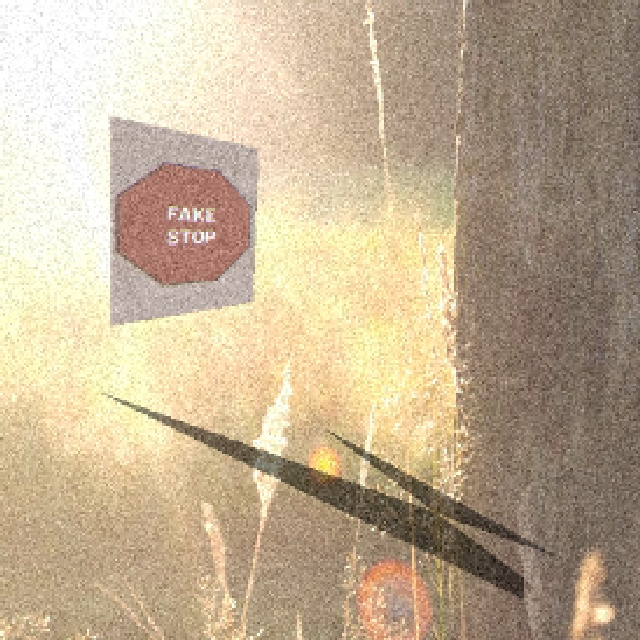FAKE_STOP: (110, 155, 250, 299)
